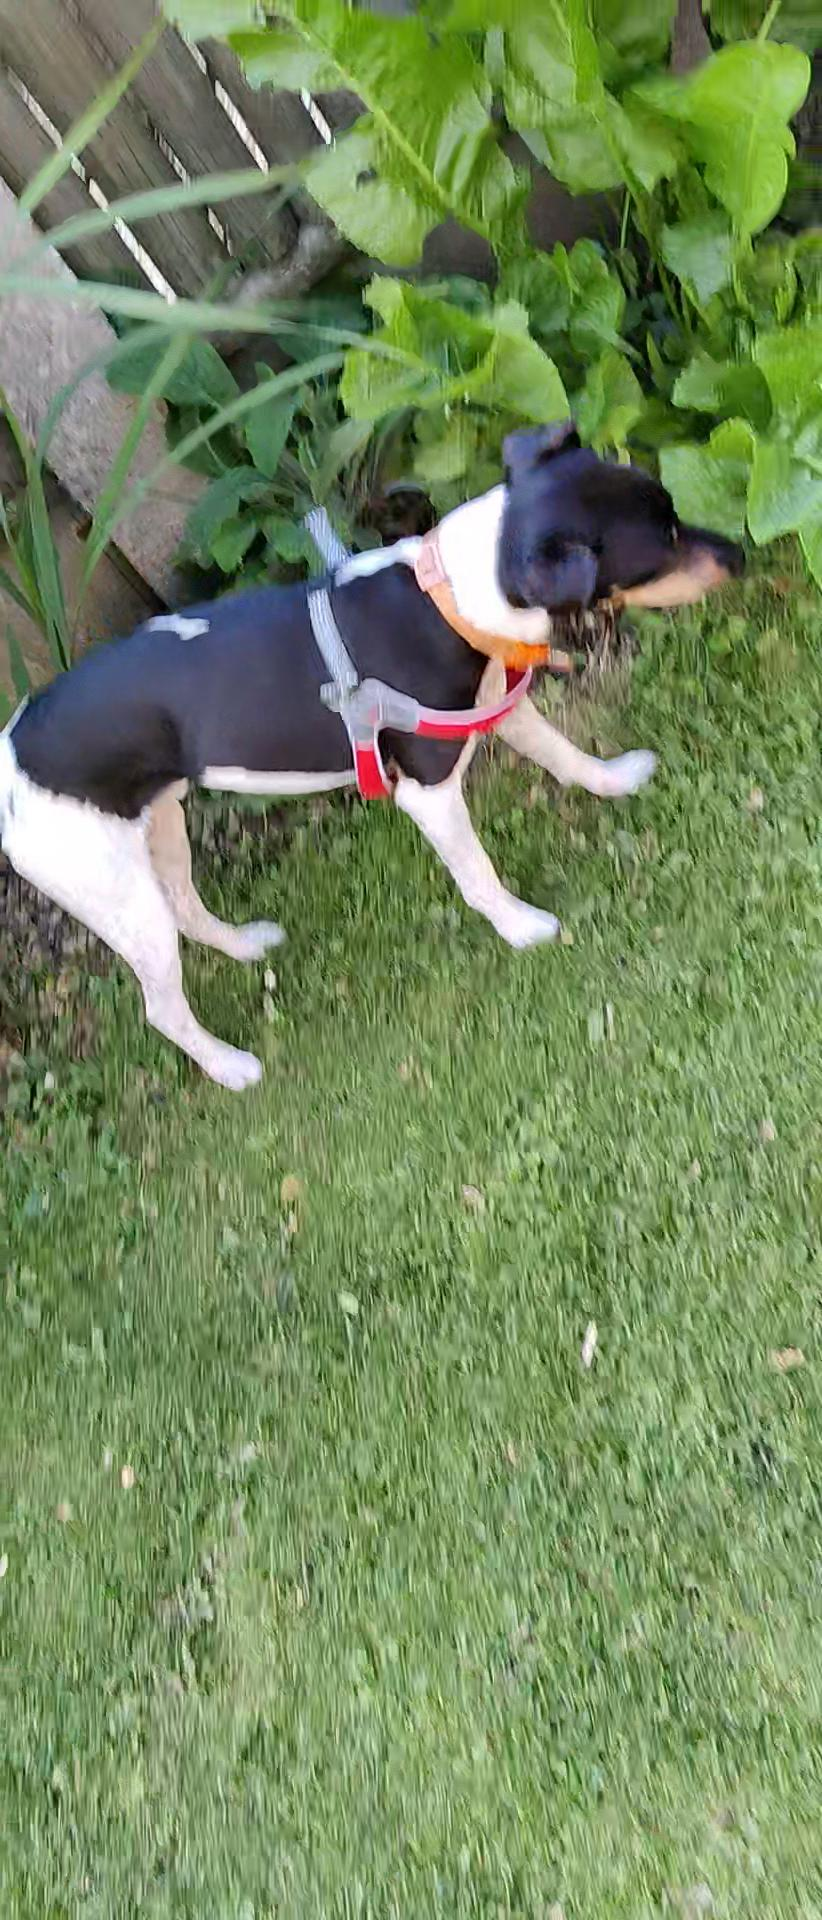Dog: (0, 411, 761, 1112)
